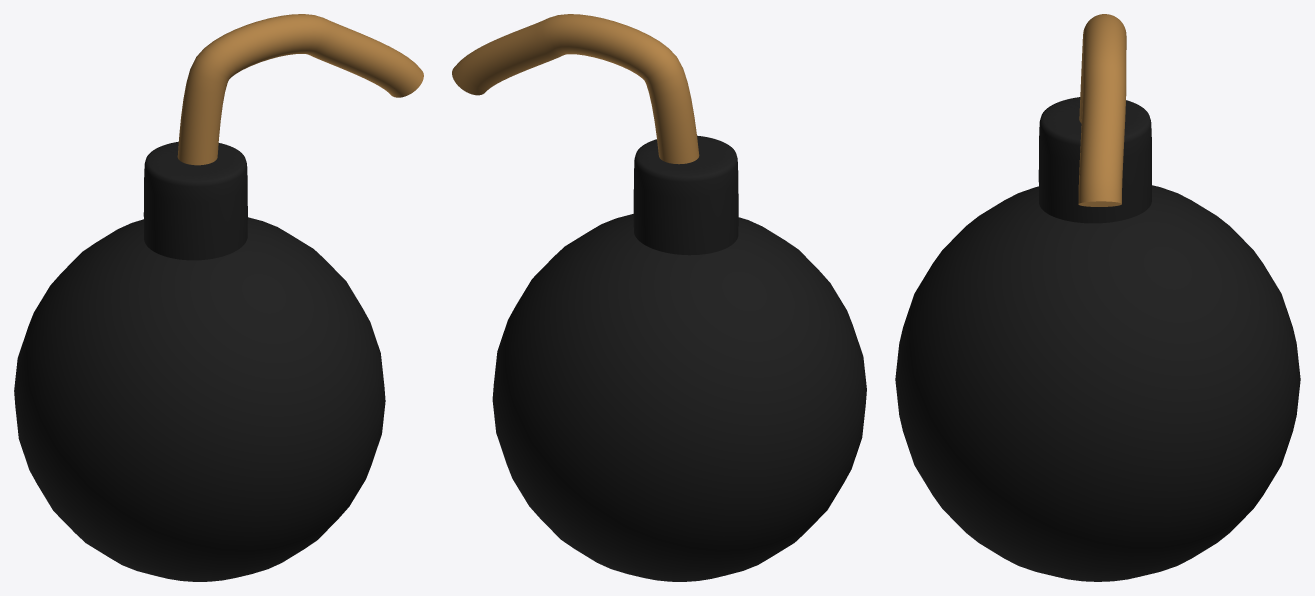
File: Bomb.fbx
3 views of the same model, side by side, from view 1: azimuth 30°, elevation 25°; view 2: azimuth 150°, elevation 25°; view 3: azimuth 270°, elevation 25° (orthographic). The views are drawn at different scales.
Parts seen in each view (by area): view 1: Sphere, BezierCurve, Cylinder; view 2: Sphere, BezierCurve, Cylinder; view 3: Sphere, Cylinder, BezierCurve.
Part boxes in pixels (x1=…): Sphere: x1=14, y1=217, x2=385, y2=581; BezierCurve: x1=177, y1=14, x2=423, y2=165; Cylinder: x1=143, y1=141, x2=247, y2=260; Sphere: x1=492, y1=214, x2=866, y2=581; BezierCurve: x1=452, y1=14, x2=699, y2=164; Cylinder: x1=633, y1=135, x2=738, y2=255; Sphere: x1=895, y1=185, x2=1300, y2=581; Cylinder: x1=1038, y1=97, x2=1151, y2=223; BezierCurve: x1=1078, y1=14, x2=1126, y2=206.
Size of the model in its own units: 180 by 236 by 152.
